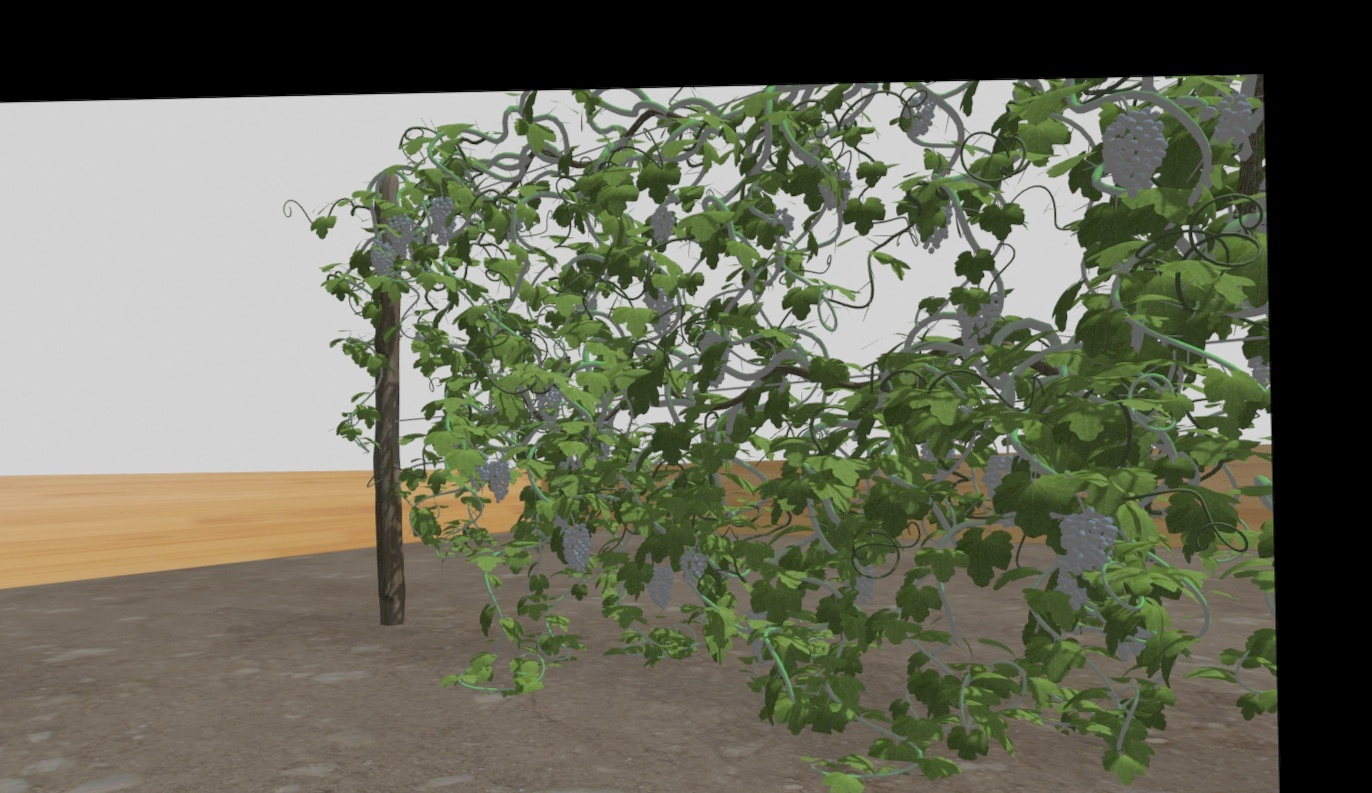grape: (1101, 106, 1168, 197), (1058, 506, 1120, 571), (953, 287, 1002, 350), (981, 451, 1021, 525), (1203, 88, 1254, 144), (1051, 575, 1090, 619), (643, 560, 676, 611), (562, 523, 593, 575), (898, 97, 935, 140), (842, 561, 880, 602), (677, 545, 709, 591), (645, 286, 675, 335), (385, 212, 413, 257), (487, 458, 513, 505), (431, 196, 457, 243), (537, 384, 562, 423), (369, 242, 395, 279), (648, 206, 675, 241), (467, 461, 488, 491)
